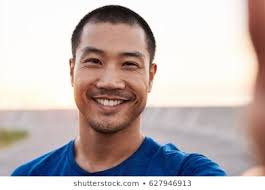asian_male: (60, 4, 165, 131)
